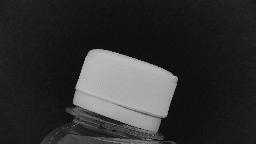Broken Cap: (62, 44, 184, 140)
